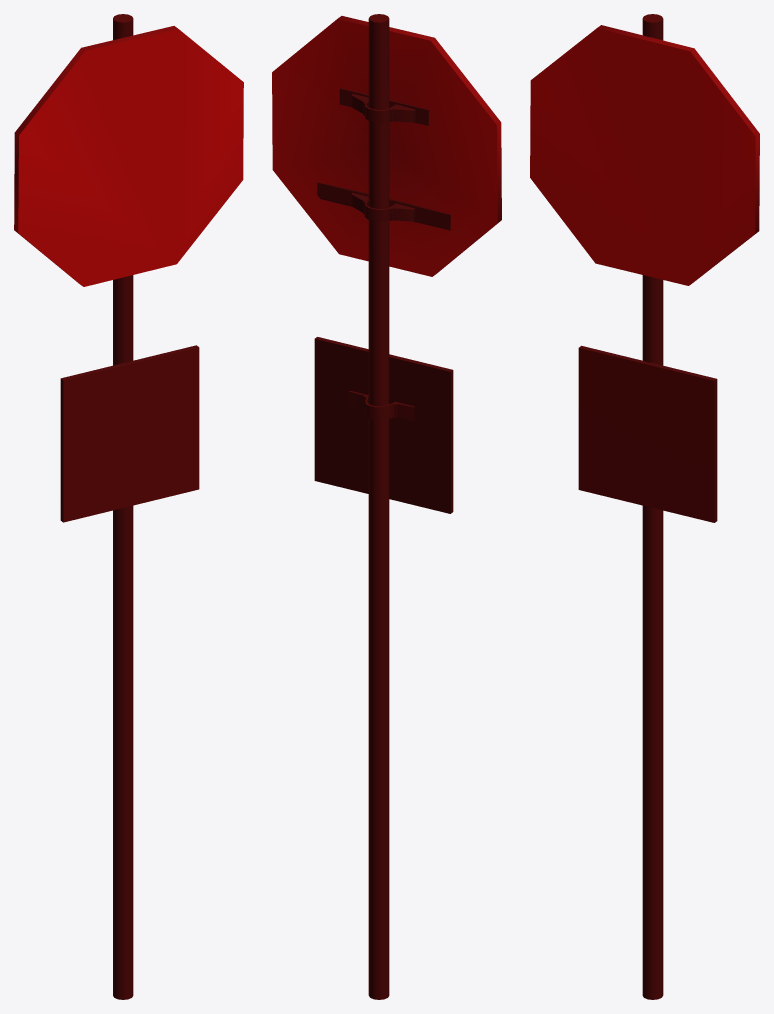
The model's file is Roadsign006.glb.
3 renders of one model, left to right at view 1: azimuth 30°, elevation 25°; view 2: azimuth 150°, elevation 25°; view 3: azimuth 330°, elevation 25°, orthographic.
Parts seen in each view (by area): view 1: Roadsign006; view 2: Roadsign006; view 3: Roadsign006.
Part boxes in pixels (bbox=[...]): Roadsign006: bbox=[14, 14, 243, 999]; Roadsign006: bbox=[272, 14, 501, 999]; Roadsign006: bbox=[530, 14, 759, 999].
Bounding box in the file's own units: 3.03 × 12.54 × 0.356.
